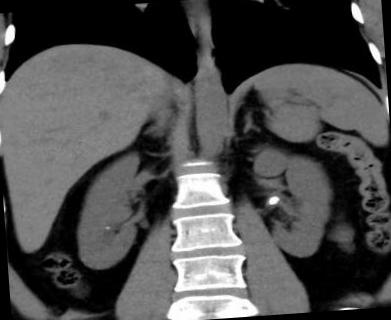Tas_Var: (267, 192, 280, 208), (104, 224, 109, 230)
